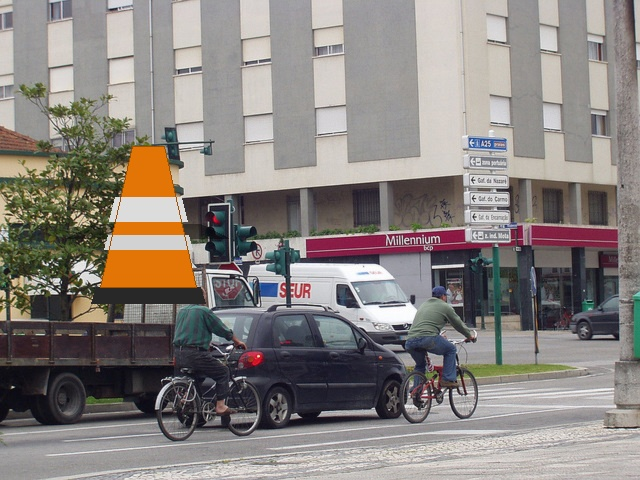traffic-cone: (91, 146, 205, 303)
